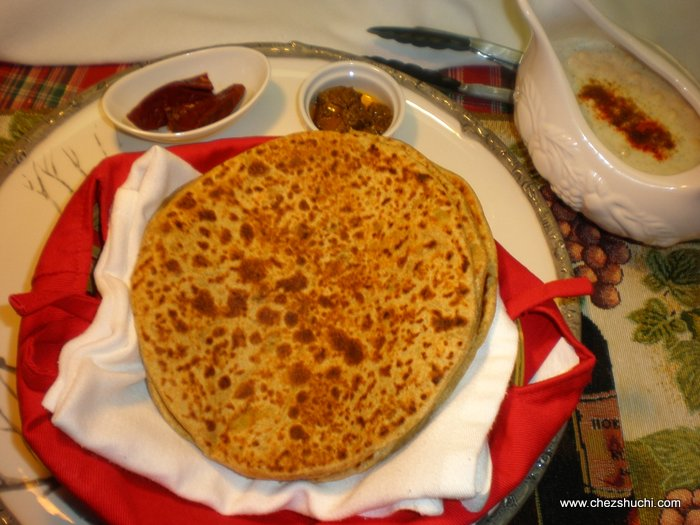aloo_paratha: (135, 134, 497, 487)
